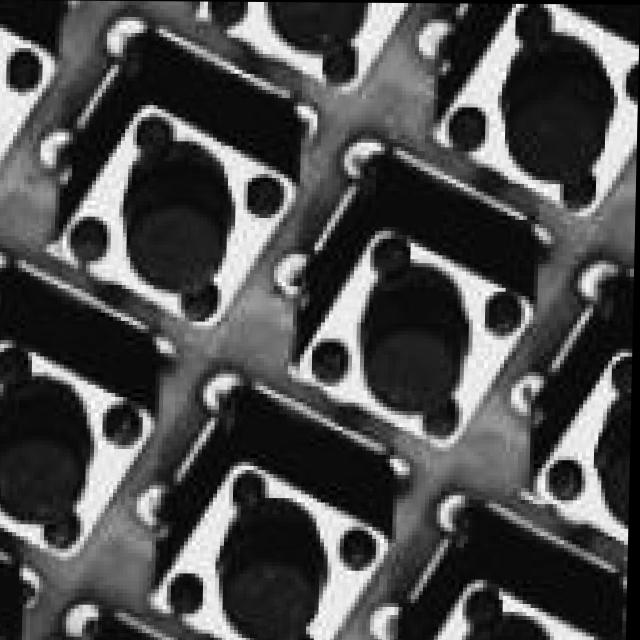switch: (57, 98, 274, 314), (153, 445, 376, 640), (456, 3, 640, 236), (318, 234, 516, 443), (0, 332, 134, 585), (538, 343, 634, 580), (206, 1, 428, 90), (413, 594, 618, 640), (0, 0, 40, 200), (0, 0, 180, 5), (0, 552, 10, 640)
